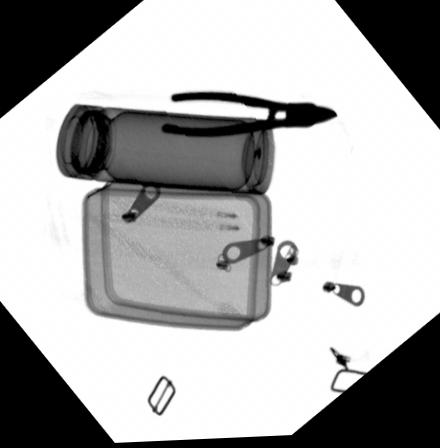Pliers: (159, 91, 339, 139)
